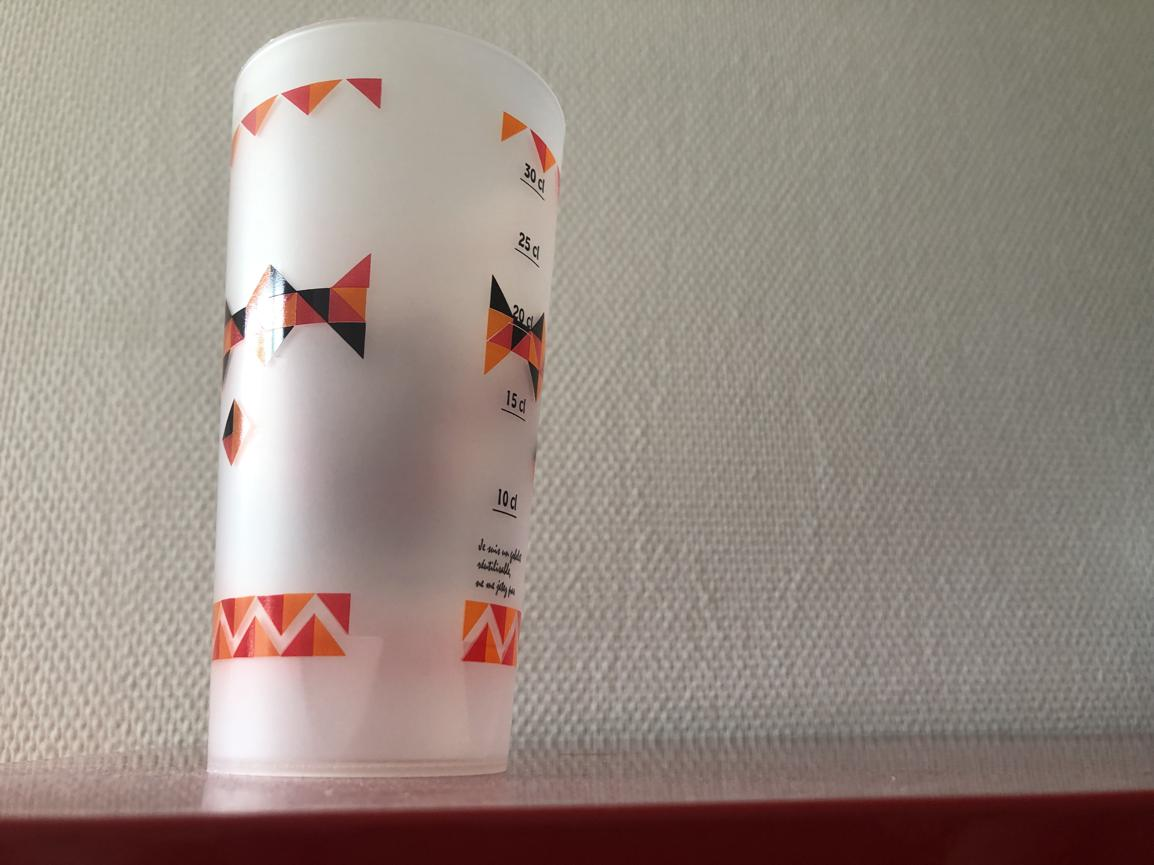ecocup: (207, 18, 568, 780)
